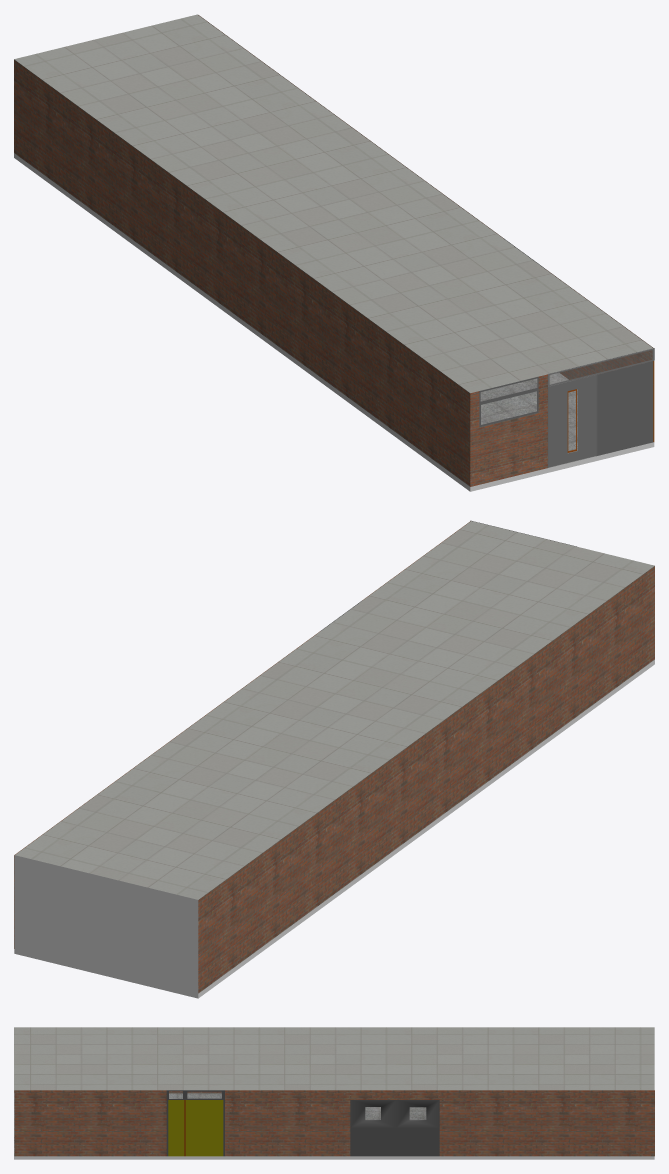
Rendered from AULA MUY BUENA (3).fbx.
3 views of the same model, one above another, from view 1: azimuth 30°, elevation 25°; view 2: azimuth 150°, elevation 25°; view 3: azimuth 270°, elevation 25° (orthographic). The views are drawn at different scales.
Visible parts, largest first — view 1: techo, pared izquierda, pared de atras, Cube.004, Cube, piso, pared derecha, Cube.005; view 2: techo, pared izquierda, pared de adelante, Cube; view 3: pared derecha, techo, Cube, piso.
Part boxes in pixels (x1,y1,x2,y2): techo: (14,14,653,392); pared izquierda: (14,59,470,486); pared de atras: (470,361,654,486); Cube.004: (548,375,596,467); Cube: (14,153,654,491); piso: (480,373,595,467); pared derecha: (198,15,653,379); Cube.005: (548,348,654,386); techo: (15,521,654,899); pared izquierda: (198,566,654,993); pared de adelante: (14,855,198,993); Cube: (14,660,654,998); pared derecha: (14,1090,654,1156); techo: (14,1027,654,1090); Cube: (14,1156,654,1159); piso: (14,1093,426,1156).
Bounding box in the file's own units: 266 × 136 × 1139.
